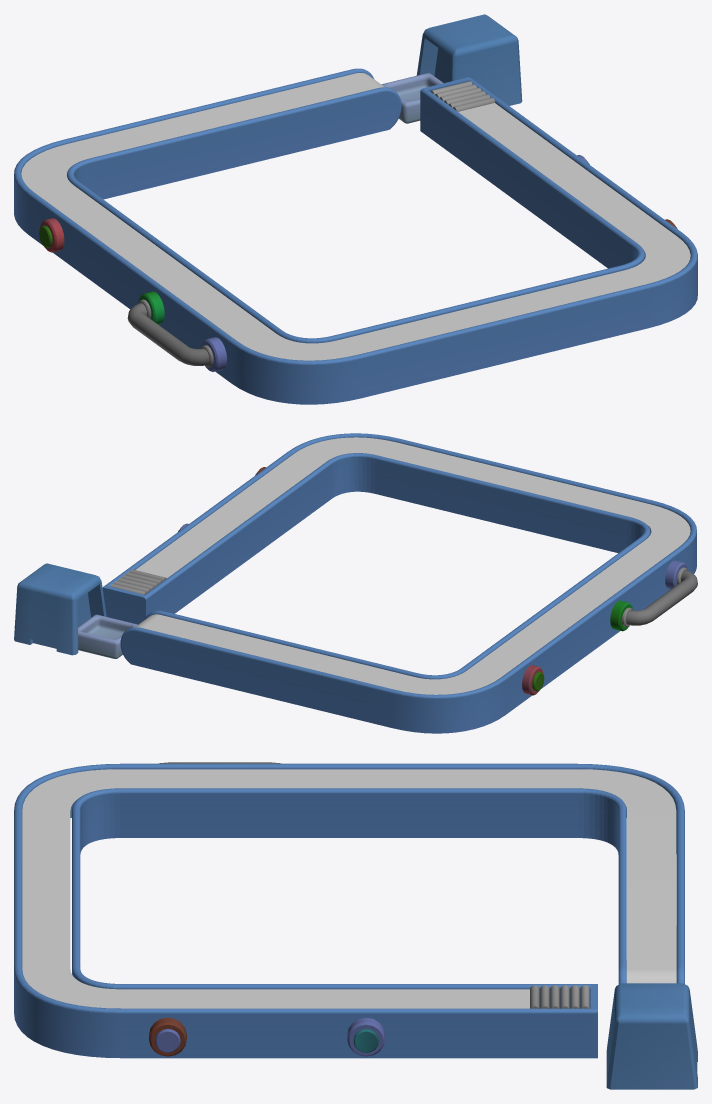
File: Model_taitao.fbx
3 renders of one model, top to bottom at view 1: azimuth 30°, elevation 25°; view 2: azimuth 150°, elevation 25°; view 3: azimuth 270°, elevation 25°, orthographic. The views are drawn at different scales.
Visible parts, largest first — view 1: Base1, ray, Machine1, polySurface20, Tray, End; view 2: Base1, ray, Machine1, Tray, polySurface20, End; view 3: Base1, ray, Machine1, End, Tube, Knot.
Part boxes in pixels (x1,y1,x2,y2): Base1: (14,68,697,404); ray: (21,73,690,360); Machine1: (416,14,522,105); polySurface20: (127,303,209,365); Tray: (381,73,443,123); End: (430,81,494,111); Base1: (102,433,696,733); ray: (135,437,690,694); Machine1: (14,563,106,655); Tray: (78,614,137,658); polySurface20: (626,570,697,625); End: (110,569,166,594); Base1: (14,763,684,1058); ray: (22,769,676,1008); Machine1: (606,983,697,1089); End: (530,985,589,1008); Tube: (347,1017,385,1056); Knot: (149,1017,186,1056).
Size of the model in its own units: 1437 by 164 by 1394.
